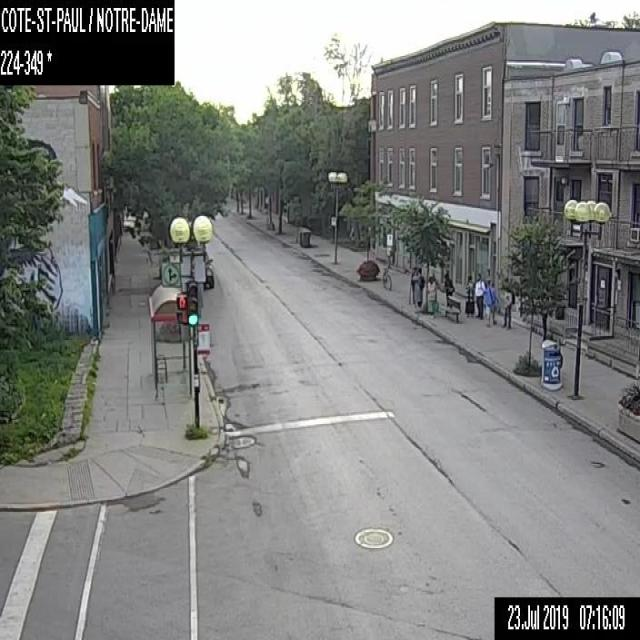pedestrian: (483, 278, 498, 327), (500, 286, 515, 330), (474, 272, 486, 320), (425, 275, 437, 318), (412, 267, 424, 310), (464, 273, 474, 316), (443, 269, 454, 308), (411, 266, 416, 303)
vehicle: (201, 249, 213, 289)
